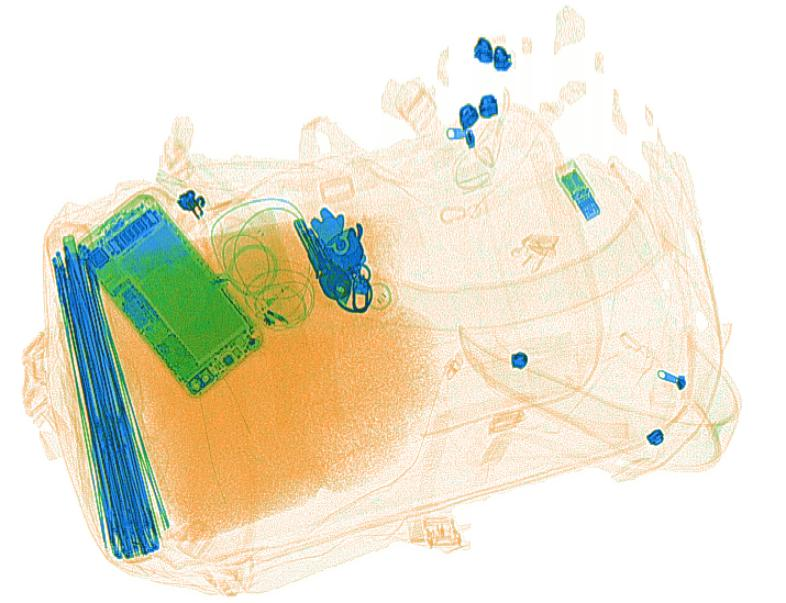USBFlashDisk: (558, 164, 603, 222)
